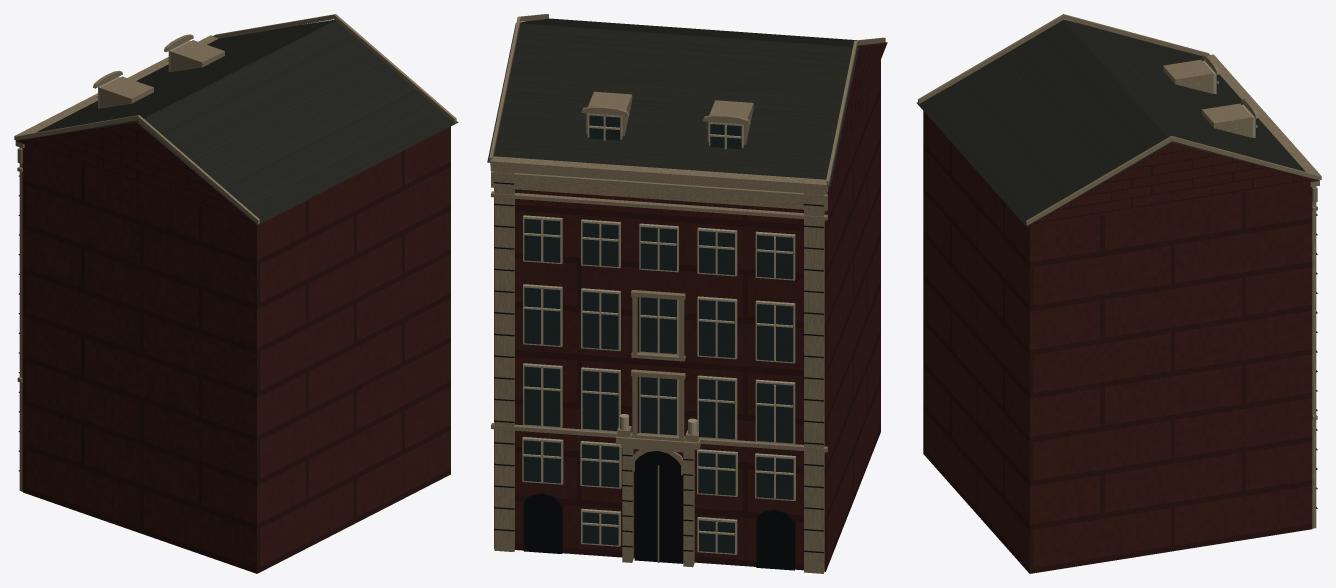
The picture shows the model from 3 angles, left to right: view 1: azimuth 30°, elevation 25°; view 2: azimuth 150°, elevation 25°; view 3: azimuth 270°, elevation 25°; orthographic projection. The views are drawn at different scales.
Visible parts, largest first — view 1: notarishuis-geldersekade-1, notarishuis-geldersekade-2, notarishuis-geldersekade-3; view 2: notarishuis-geldersekade-1, notarishuis-geldersekade-2, notarishuis-geldersekade-3, notarishuis-geldersekade-5, notarishuis-geldersekade-0, notarishuis-geldersekade-4; view 3: notarishuis-geldersekade-1, notarishuis-geldersekade-2, notarishuis-geldersekade-3.
Boxes of the visible parts, x1,y1,x2,y2 form: notarishuis-geldersekade-1: (16,122,450,573); notarishuis-geldersekade-2: (16,19,458,225); notarishuis-geldersekade-3: (14,14,456,491); notarishuis-geldersekade-1: (494,42,887,571); notarishuis-geldersekade-2: (487,18,886,186); notarishuis-geldersekade-3: (489,14,885,573); notarishuis-geldersekade-5: (523,115,793,553); notarishuis-geldersekade-0: (522,113,795,554); notarishuis-geldersekade-4: (494,182,823,570); notarishuis-geldersekade-1: (923,111,1318,573); notarishuis-geldersekade-2: (917,19,1318,226); notarishuis-geldersekade-3: (918,14,1321,528).
Bounding box in the file's own units: 18.72 × 21.3 × 18.79.
6 materials, 6 textured.
